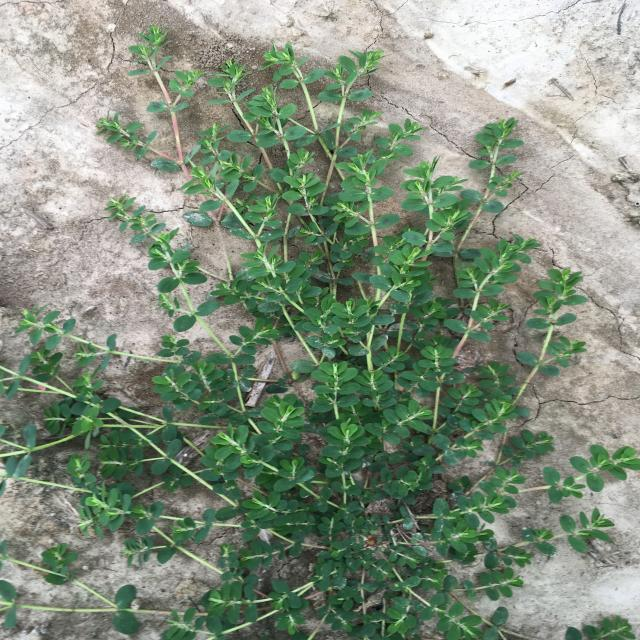SpottedSpurge: (0, 26, 640, 640)
